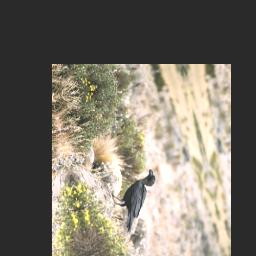Crow: (106, 166, 168, 236)
